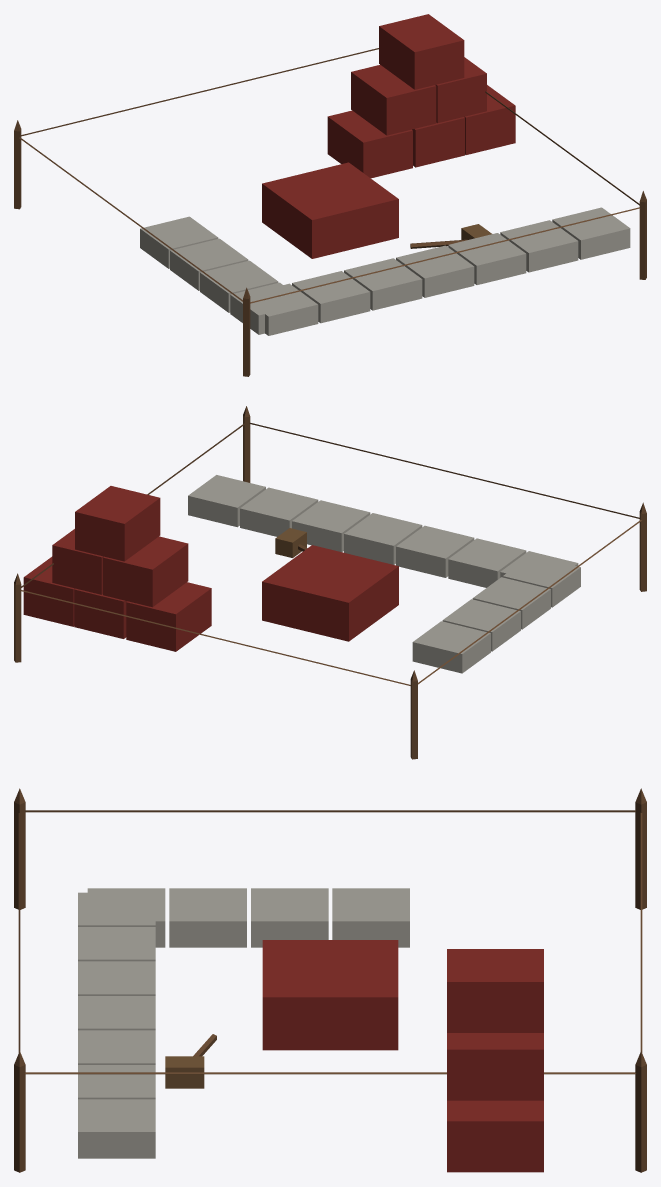
File: MonumentSite.fbx
The picture shows the model from 3 angles, top to bottom: view 1: azimuth 30°, elevation 25°; view 2: azimuth 150°, elevation 25°; view 3: azimuth 270°, elevation 25°; orthographic projection. The views are drawn at different scales.
Visible parts, largest first — view 1: MonumentSite; view 2: MonumentSite; view 3: MonumentSite.
Part boxes in pixels (bbox=[...]): MonumentSite: bbox=[14, 14, 646, 376]; MonumentSite: bbox=[14, 406, 646, 759]; MonumentSite: bbox=[14, 788, 646, 1172].
Size of the model in its own units: 3.47 by 0.99 by 3.26.
